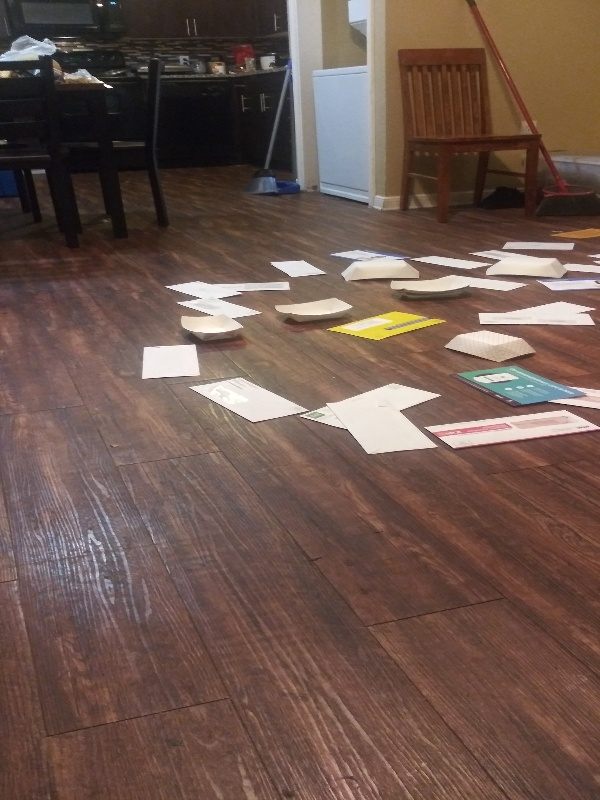plate: (439, 330, 538, 363), (172, 310, 248, 347), (269, 295, 360, 325), (385, 273, 475, 302), (337, 257, 424, 286), (482, 257, 568, 280)
